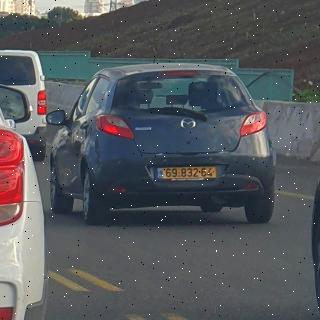LicensePlate: (163, 167, 215, 178)
